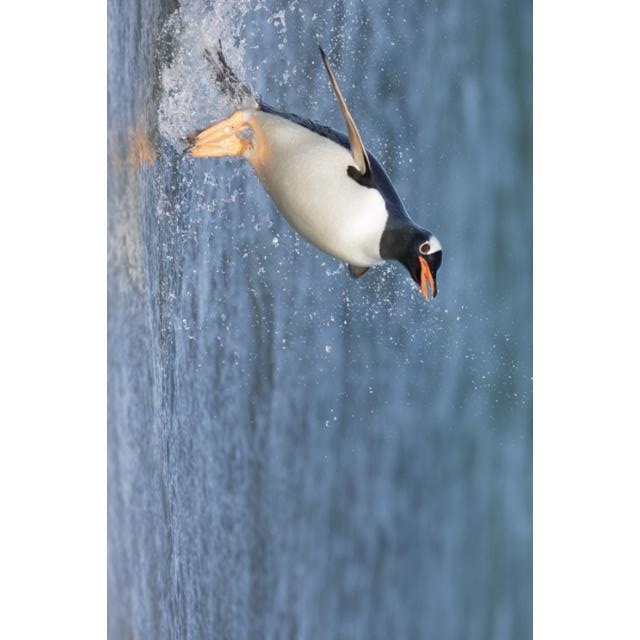penguin: (182, 37, 442, 300)
